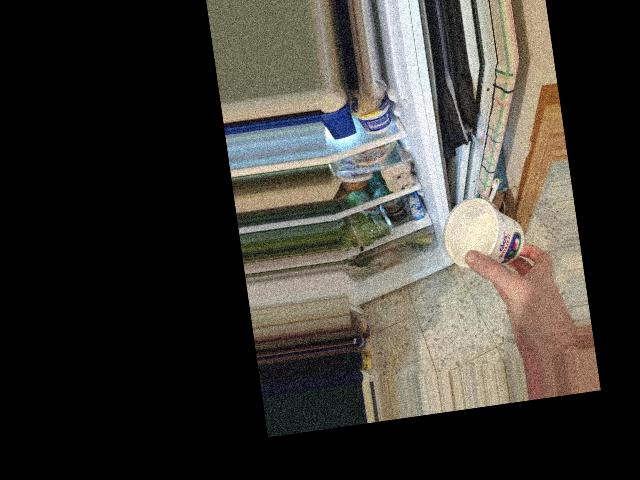cotage: (438, 190, 532, 278)
